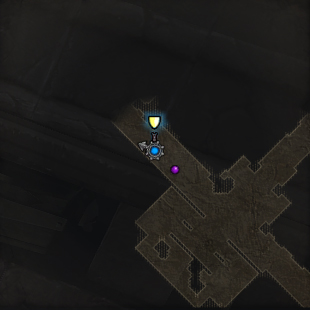ShieldPylon: (146, 112, 165, 151)
